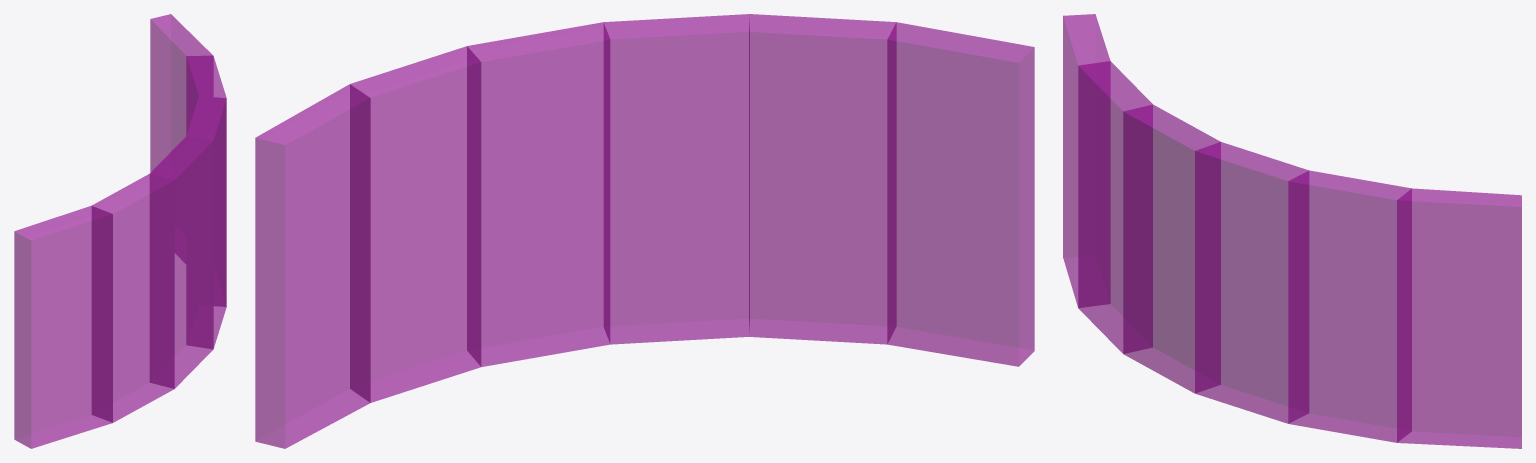
Rendered from SM_Bld_Wall_Window_Fancy_Curved_L_01_Collision.fbx.
3 views of the same model, side by side, from view 1: azimuth 30°, elevation 25°; view 2: azimuth 150°, elevation 25°; view 3: azimuth 270°, elevation 25° (orthographic). The views are drawn at different scales.
Visible parts, largest first — view 1: SM_Bld_Wall_Window_Fancy_Curved_L_01_Collision; view 2: SM_Bld_Wall_Window_Fancy_Curved_L_01_Collision; view 3: SM_Bld_Wall_Window_Fancy_Curved_L_01_Collision.
Part boxes in pixels (left/top/right/bottom): SM_Bld_Wall_Window_Fancy_Curved_L_01_Collision: left=14, top=14, right=226, bottom=448; SM_Bld_Wall_Window_Fancy_Curved_L_01_Collision: left=255, top=14, right=1034, bottom=448; SM_Bld_Wall_Window_Fancy_Curved_L_01_Collision: left=1063, top=14, right=1521, bottom=448.
Size of the model in its own units: 521 by 306 by 523.
